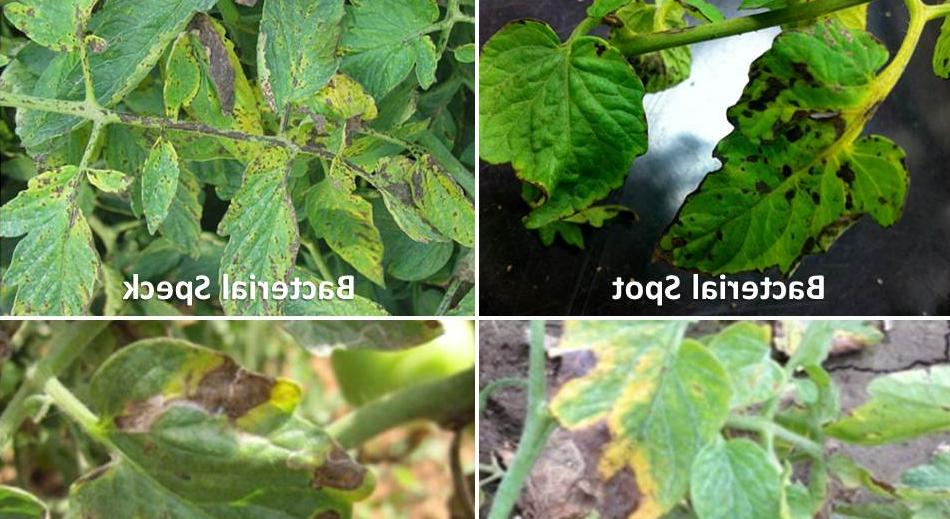Tomato Early blight leaf: (533, 331, 914, 519)
Tomato leaf bacterial spot: (657, 29, 914, 297), (481, 27, 676, 258), (30, 0, 226, 153), (0, 155, 141, 308), (210, 123, 317, 311), (246, 0, 360, 129), (121, 116, 192, 233), (156, 23, 207, 114)
